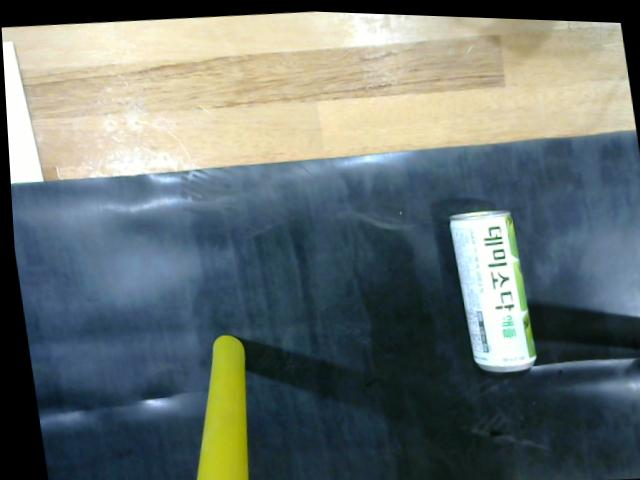can: (436, 195, 532, 379)
